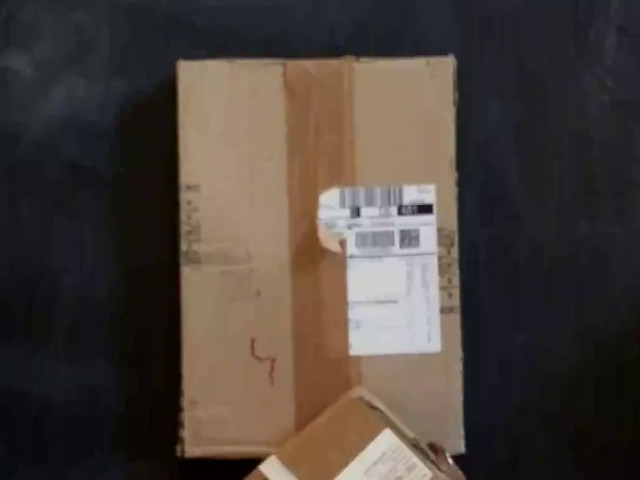cardboard: (181, 52, 458, 456)
